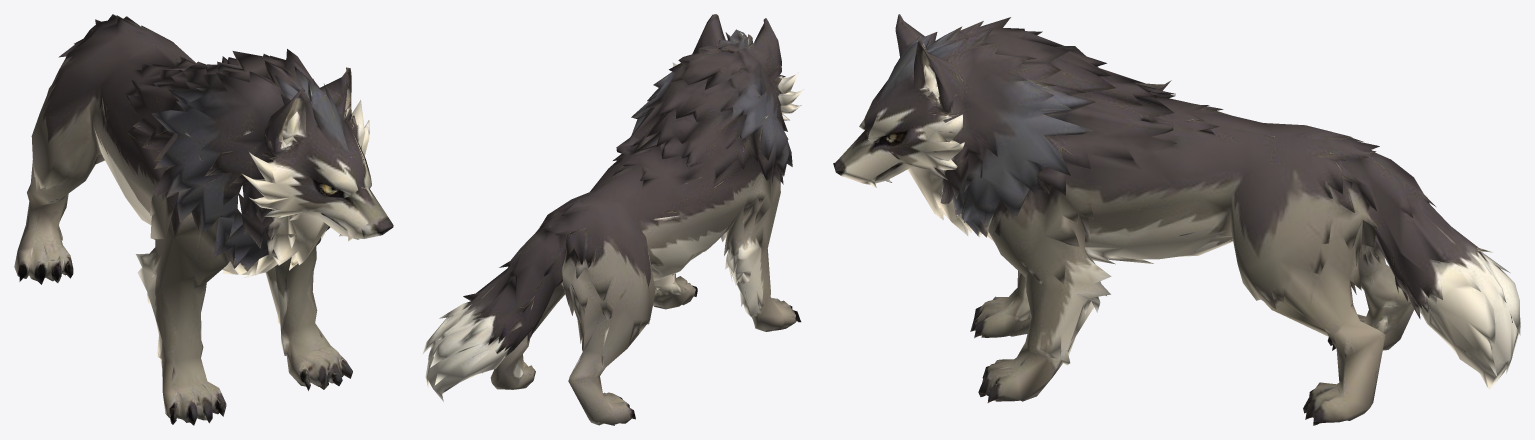
Rendered from thornback_wolf.glb.
3 renders of one model, left to right at view 1: azimuth 30°, elevation 25°; view 2: azimuth 150°, elevation 25°; view 3: azimuth 270°, elevation 25°, orthographic. The views are drawn at different scales.
Bounding box in the file's own units: 0.7556 × 1.05 × 1.89.
Materials: 1 (1 with a texture image).
